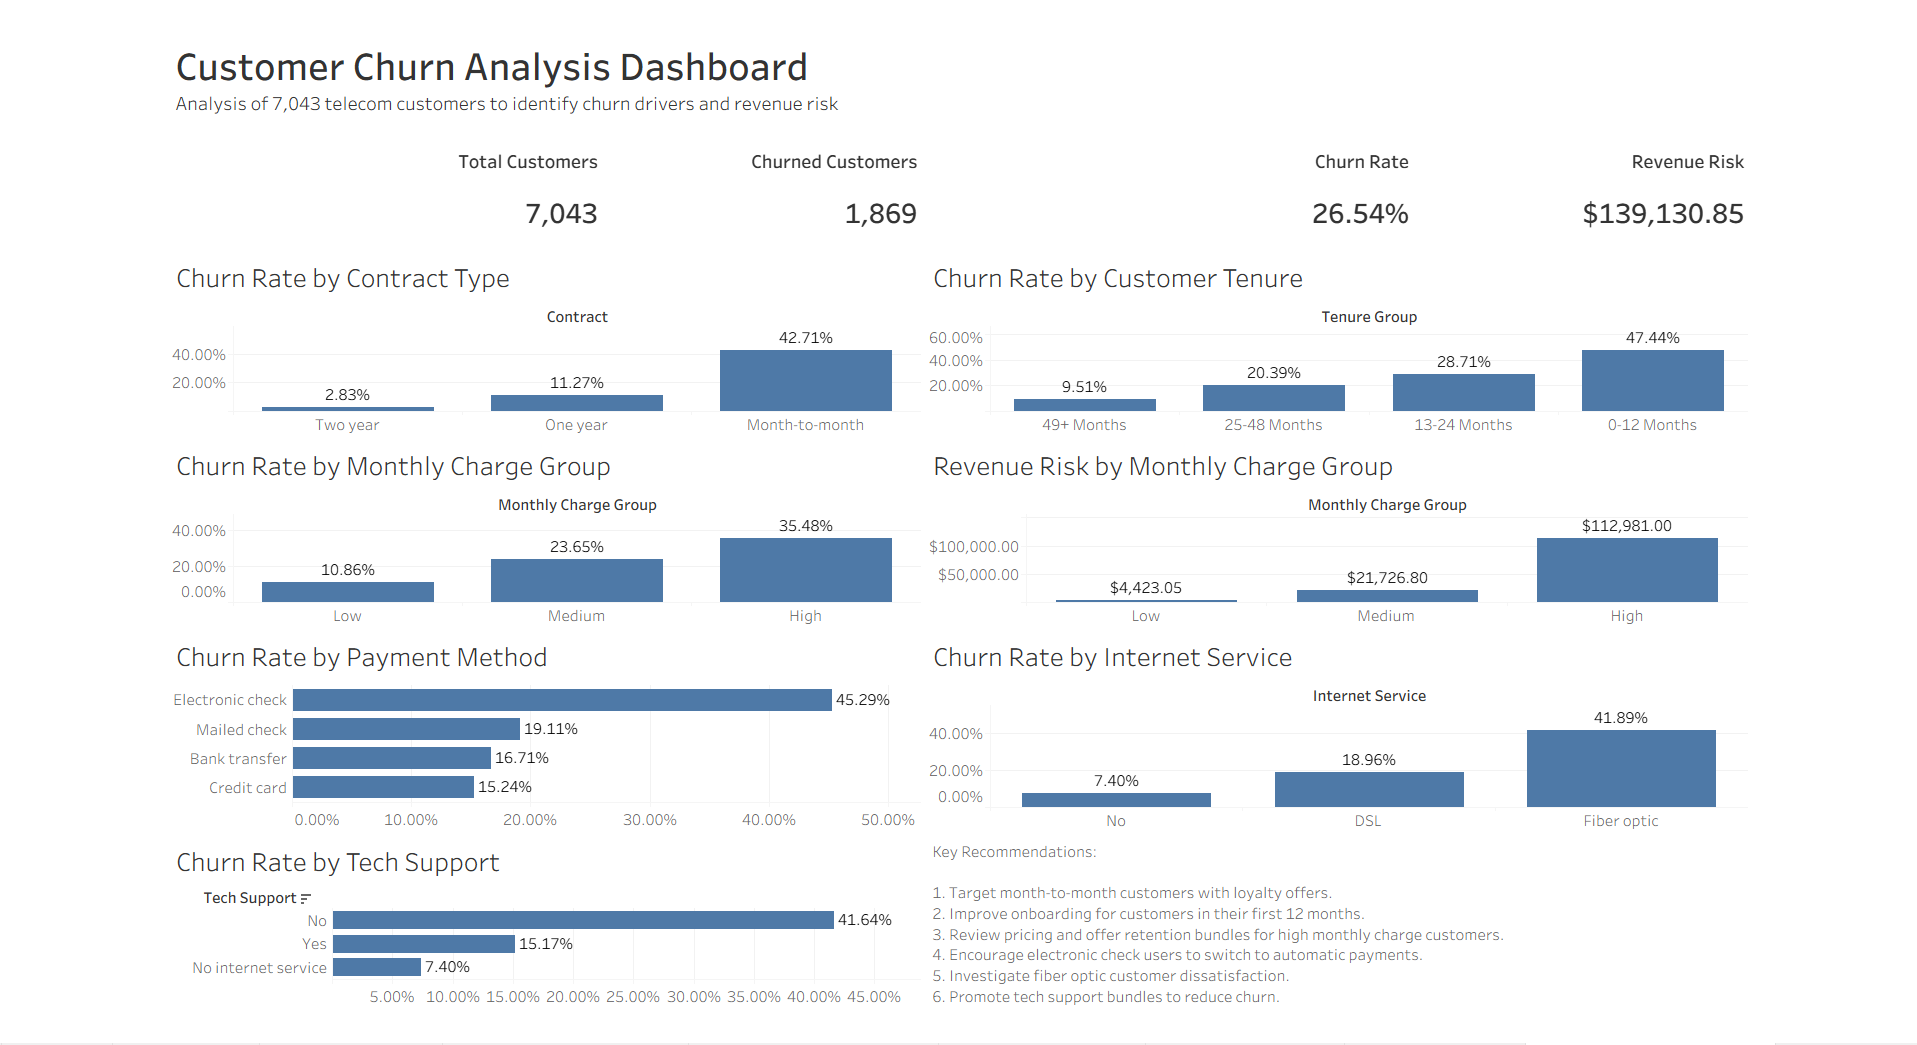

This screenshot's page, from the dashboard's own definition file:
{"tool":"tableau","page":{"name":"Customer Churn Analysis Dashboard","canvas":[1600,1000],"ordinal":0},"visuals":[{"type":"title","box":[8,8,1584,98]},{"type":"worksheet","title":"Total Customers","mark":"Automatic","box":[8,106,438,124.7]},{"type":"worksheet","title":"Churned Customers","mark":"Automatic","box":[446,106,319,124.7]},{"type":"worksheet","title":"Churn Rate","mark":"Automatic","box":[765,106,492,124.7]},{"type":"worksheet","title":"Revenue Risk","mark":"Automatic","box":[1257,106,335,124.7]},{"type":"worksheet","title":"Churn by Contract","mark":"Automatic","rows":["Calculation_1482435629105154"],"cols":["Contract"],"box":[8,230.7,756.7,188.3]},{"type":"worksheet","title":"Churn by Tenure Group","mark":"Automatic","rows":["Calculation_1482435629105154"],"cols":["TenureGroup"],"box":[764.7,230.7,827.3,188.3]},{"type":"worksheet","title":"Churn by Monthly Charge Group","mark":"Automatic","rows":["Calculation_1482435629105154"],"cols":["MonthlyChargeGroup"],"box":[8,419,757,191]},{"type":"worksheet","title":"Revenue Risk by Monthly Charge Group","mark":"Automatic","rows":["Calculation_1482435629789187"],"cols":["MonthlyChargeGroup"],"box":[765,419,827,191]},{"type":"worksheet","title":"Churn by Payment Method","mark":"Automatic","rows":["PaymentMethod"],"cols":["Calculation_1482435629105154"],"box":[8,610,757,205]},{"type":"worksheet","title":"Churn by Internet Service","mark":"Automatic","rows":["Calculation_1482435629105154"],"cols":["InternetService"],"box":[765,610,827,205]},{"type":"worksheet","title":"Churn by Tech Support","mark":"Automatic","rows":["TechSupport"],"cols":["Calculation_1482435629105154"],"box":[8,815,756.7,177]},{"type":"text","box":[764.7,815,827.3,177]}]}

Visuals, with their boxes on the page's 1600x1000 design canvas (x1, y1, x2, y2). These are canvas units, not pixel positions in the 1917x1045 screenshot, which may show the page scaled, cropped or inside an application window:
title: {"x1": 8, "y1": 8, "x2": 1592, "y2": 106}
"Total Customers" worksheet: {"x1": 8, "y1": 106, "x2": 446, "y2": 231}
"Churned Customers" worksheet: {"x1": 446, "y1": 106, "x2": 765, "y2": 231}
"Churn Rate" worksheet: {"x1": 765, "y1": 106, "x2": 1257, "y2": 231}
"Revenue Risk" worksheet: {"x1": 1257, "y1": 106, "x2": 1592, "y2": 231}
"Churn by Contract" worksheet: {"x1": 8, "y1": 231, "x2": 765, "y2": 419}
"Churn by Tenure Group" worksheet: {"x1": 765, "y1": 231, "x2": 1592, "y2": 419}
"Churn by Monthly Charge Group" worksheet: {"x1": 8, "y1": 419, "x2": 765, "y2": 610}
"Revenue Risk by Monthly Charge Group" worksheet: {"x1": 765, "y1": 419, "x2": 1592, "y2": 610}
"Churn by Payment Method" worksheet: {"x1": 8, "y1": 610, "x2": 765, "y2": 815}
"Churn by Internet Service" worksheet: {"x1": 765, "y1": 610, "x2": 1592, "y2": 815}
"Churn by Tech Support" worksheet: {"x1": 8, "y1": 815, "x2": 765, "y2": 992}
text: {"x1": 765, "y1": 815, "x2": 1592, "y2": 992}
